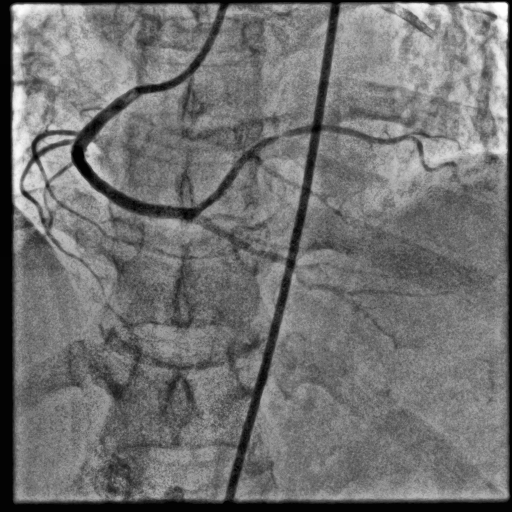pborca: (196, 125, 461, 214)
pda: (192, 215, 397, 351)
rca: (71, 65, 200, 222)
